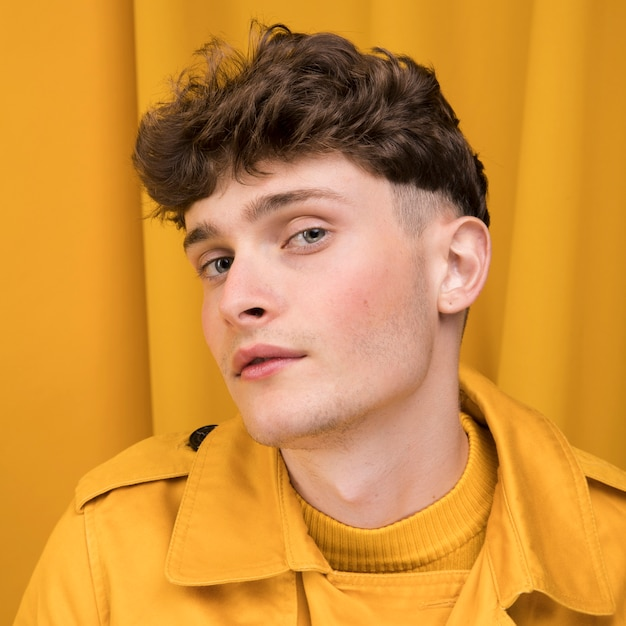teen: (132, 27, 499, 464)
